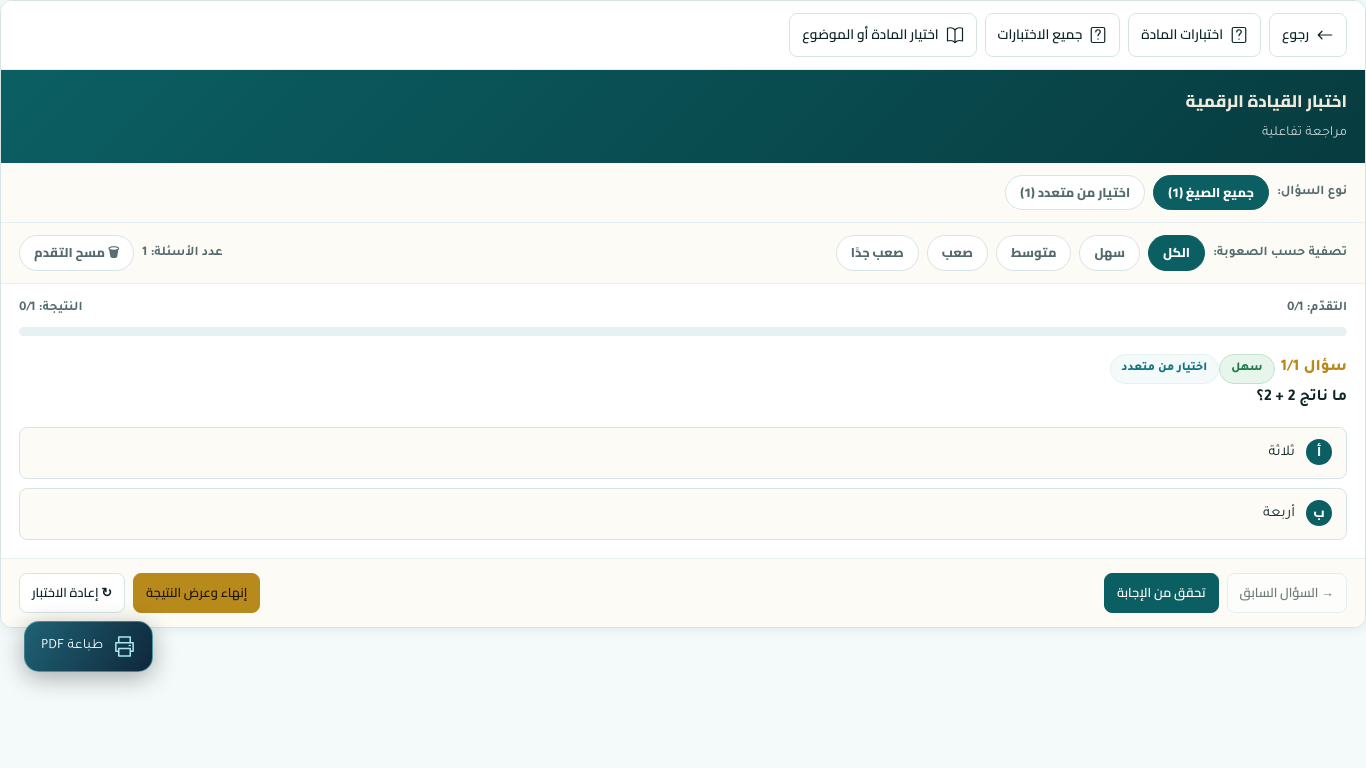
it: Finquiz interaction › shows the correct answer and explanation for a correct selection too
The width and height of the screenshot is (1366, 768).
Click the button "ب أربعة": (1279, 513) [19,488,1347,540]
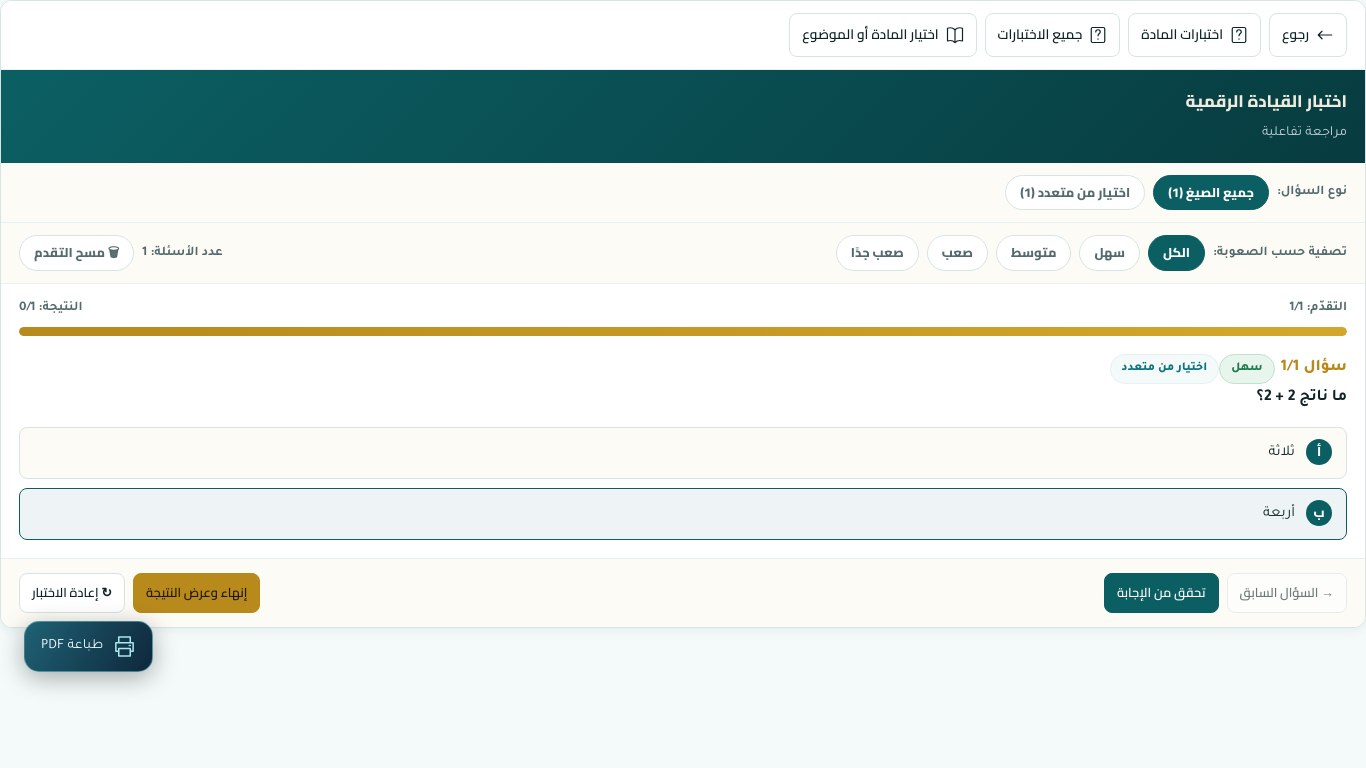
Click the button "تحقق من الإجابة": (1161, 593) [1104,573,1219,613]
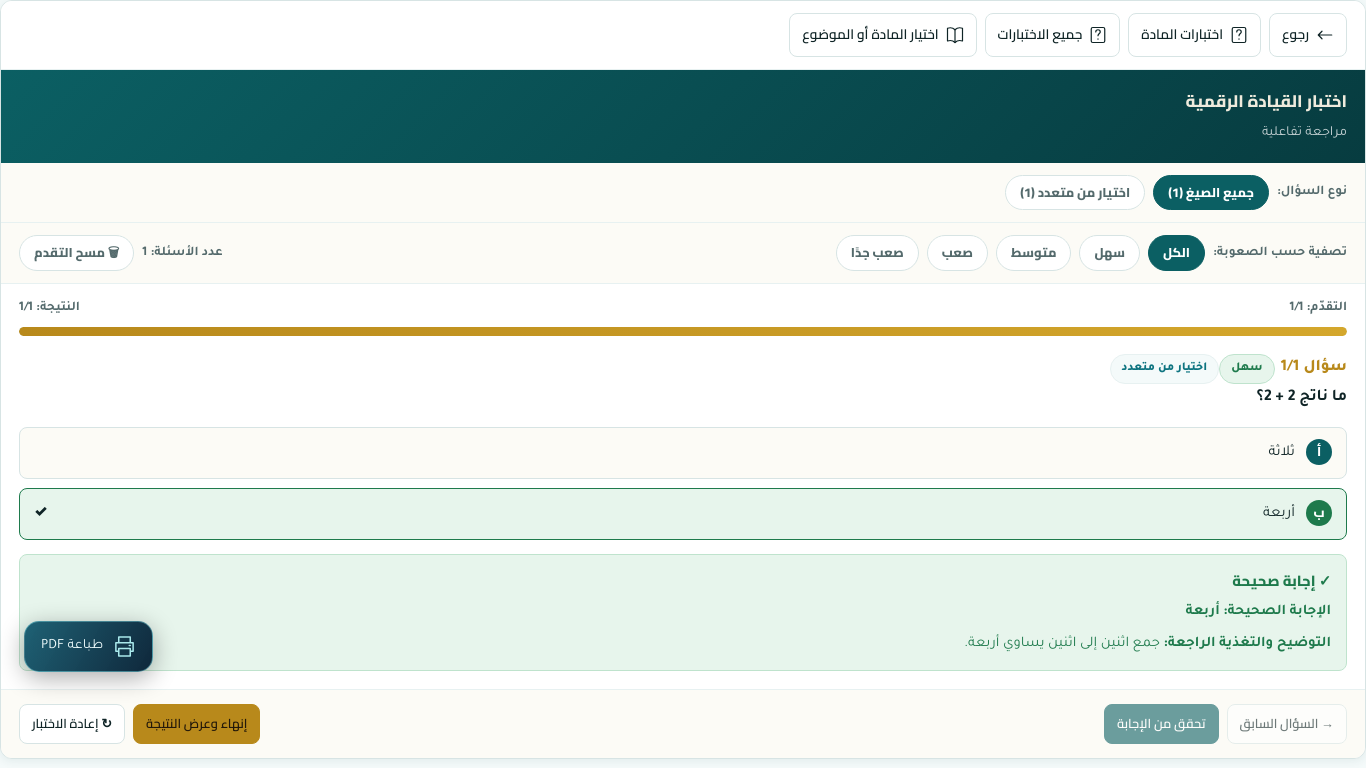
Check: the text "✓ إجابة صحيحة" is shown, box [1232,567,1331,594]
Check: the text "الإجابة الصحيحة:" is shown, box [1223,605,1331,619]
